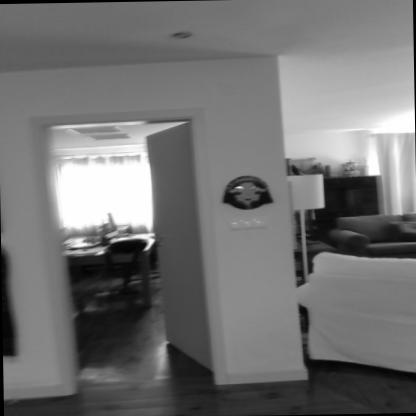open: (15, 94, 211, 402)
